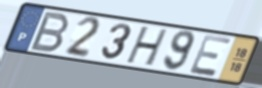2: (62, 16, 102, 59)
3: (98, 22, 132, 62)
9: (161, 29, 196, 74)
B: (27, 10, 72, 54)
E: (187, 33, 235, 79)
H: (123, 26, 171, 69)
